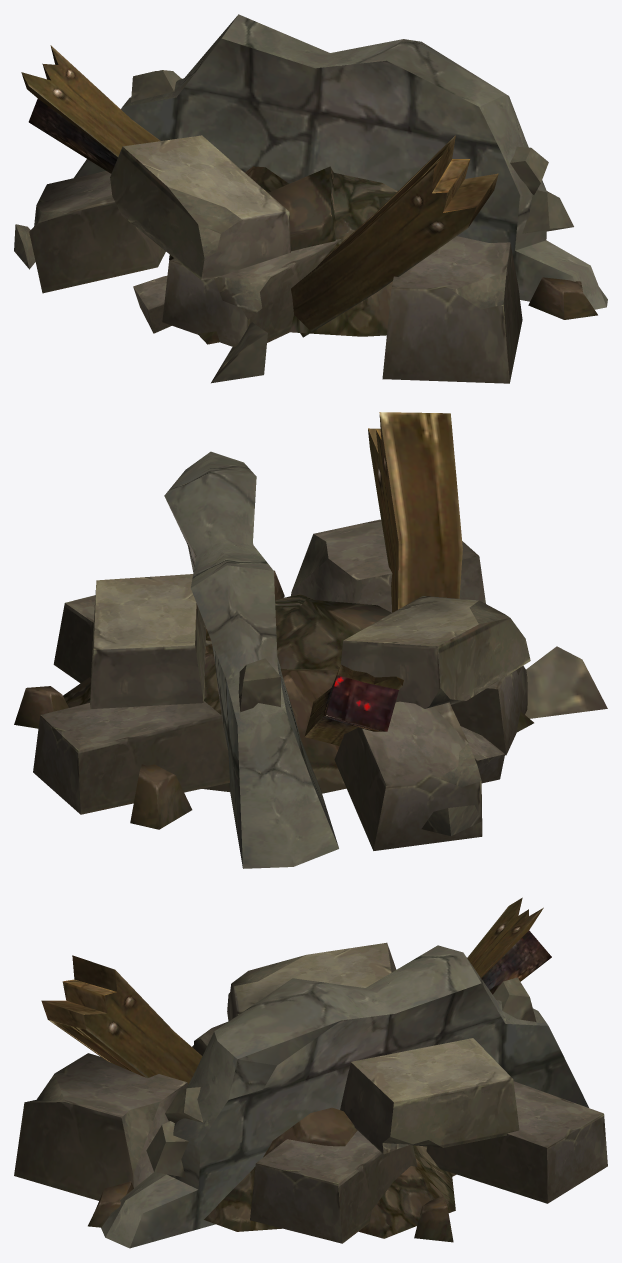
Rendered from BD_BrickWreckage04.FBX.
3 renders of one model, top to bottom at view 1: azimuth 30°, elevation 25°; view 2: azimuth 150°, elevation 25°; view 3: azimuth 270°, elevation 25°, orthographic. The views are drawn at different scales.
Visible parts, largest first — view 1: BD_BrickWreckage04; view 2: BD_BrickWreckage04; view 3: BD_BrickWreckage04.
Boxes of the visible parts, x1,y1,x2,y2 form: BD_BrickWreckage04: [14, 14, 607, 383]; BD_BrickWreckage04: [14, 412, 607, 868]; BD_BrickWreckage04: [14, 897, 607, 1248].
Bounding box in the file's own units: 750 × 376 × 893.
